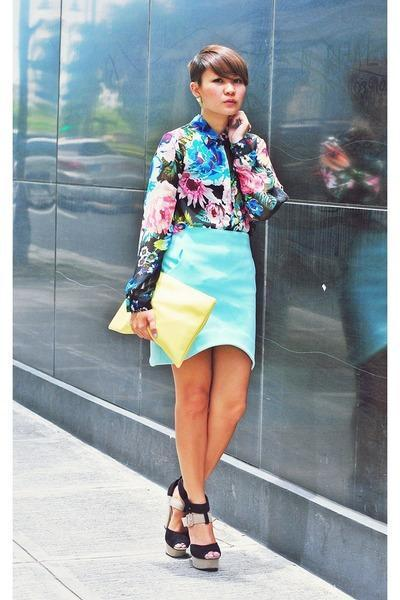bag: (108, 276, 215, 367)
shirt: (126, 112, 282, 312)
shoe: (165, 476, 220, 571)
skirt: (149, 224, 255, 368)
